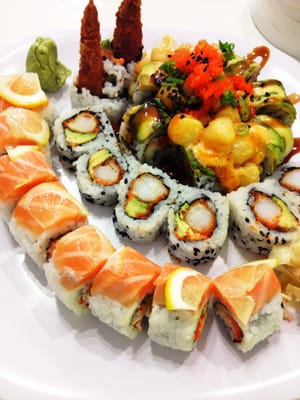soup: (88, 246, 162, 340), (167, 188, 229, 266)
